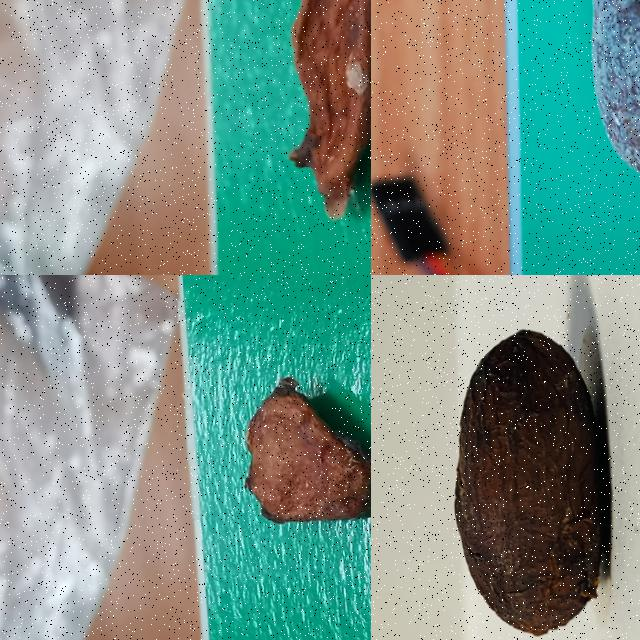Agglomerated_cocoabeans: (524, 0, 639, 274)
Fine_cocoabeans: (430, 275, 635, 639)
Flat_cocoabeans: (196, 307, 370, 584), (246, 0, 370, 271)
